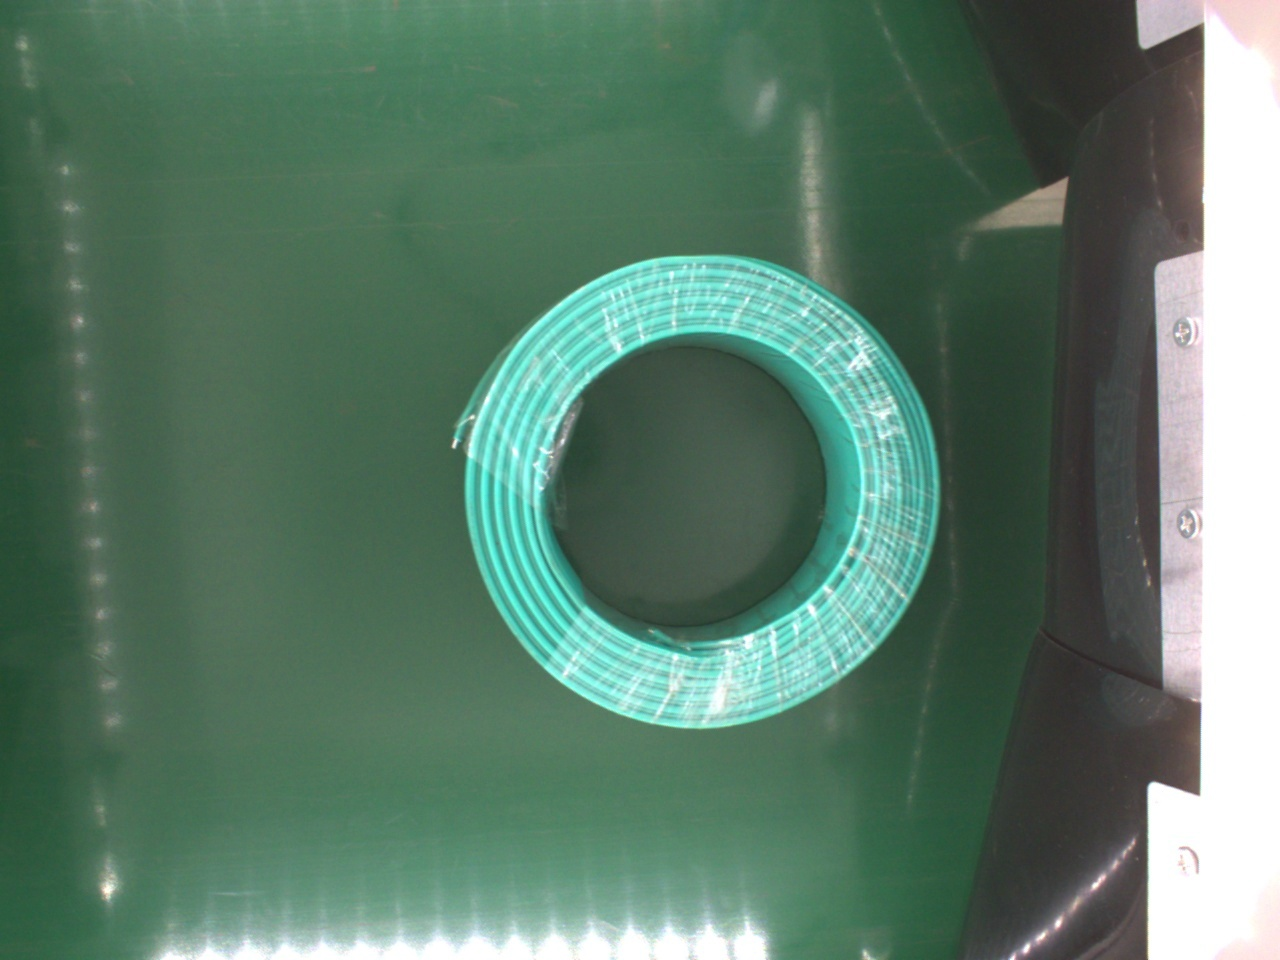green: (455, 253, 943, 731)
